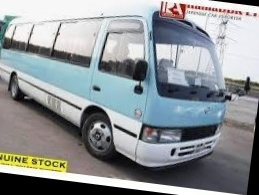bus: (0, 0, 239, 180)
